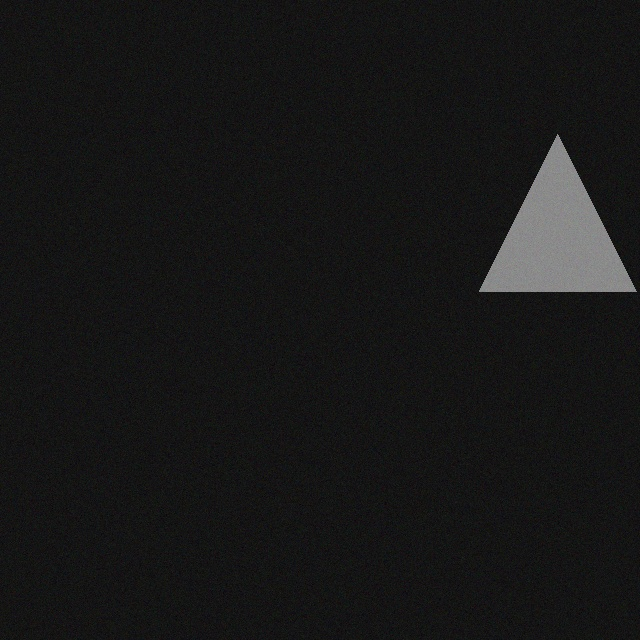triangle: (471, 147, 628, 304)
